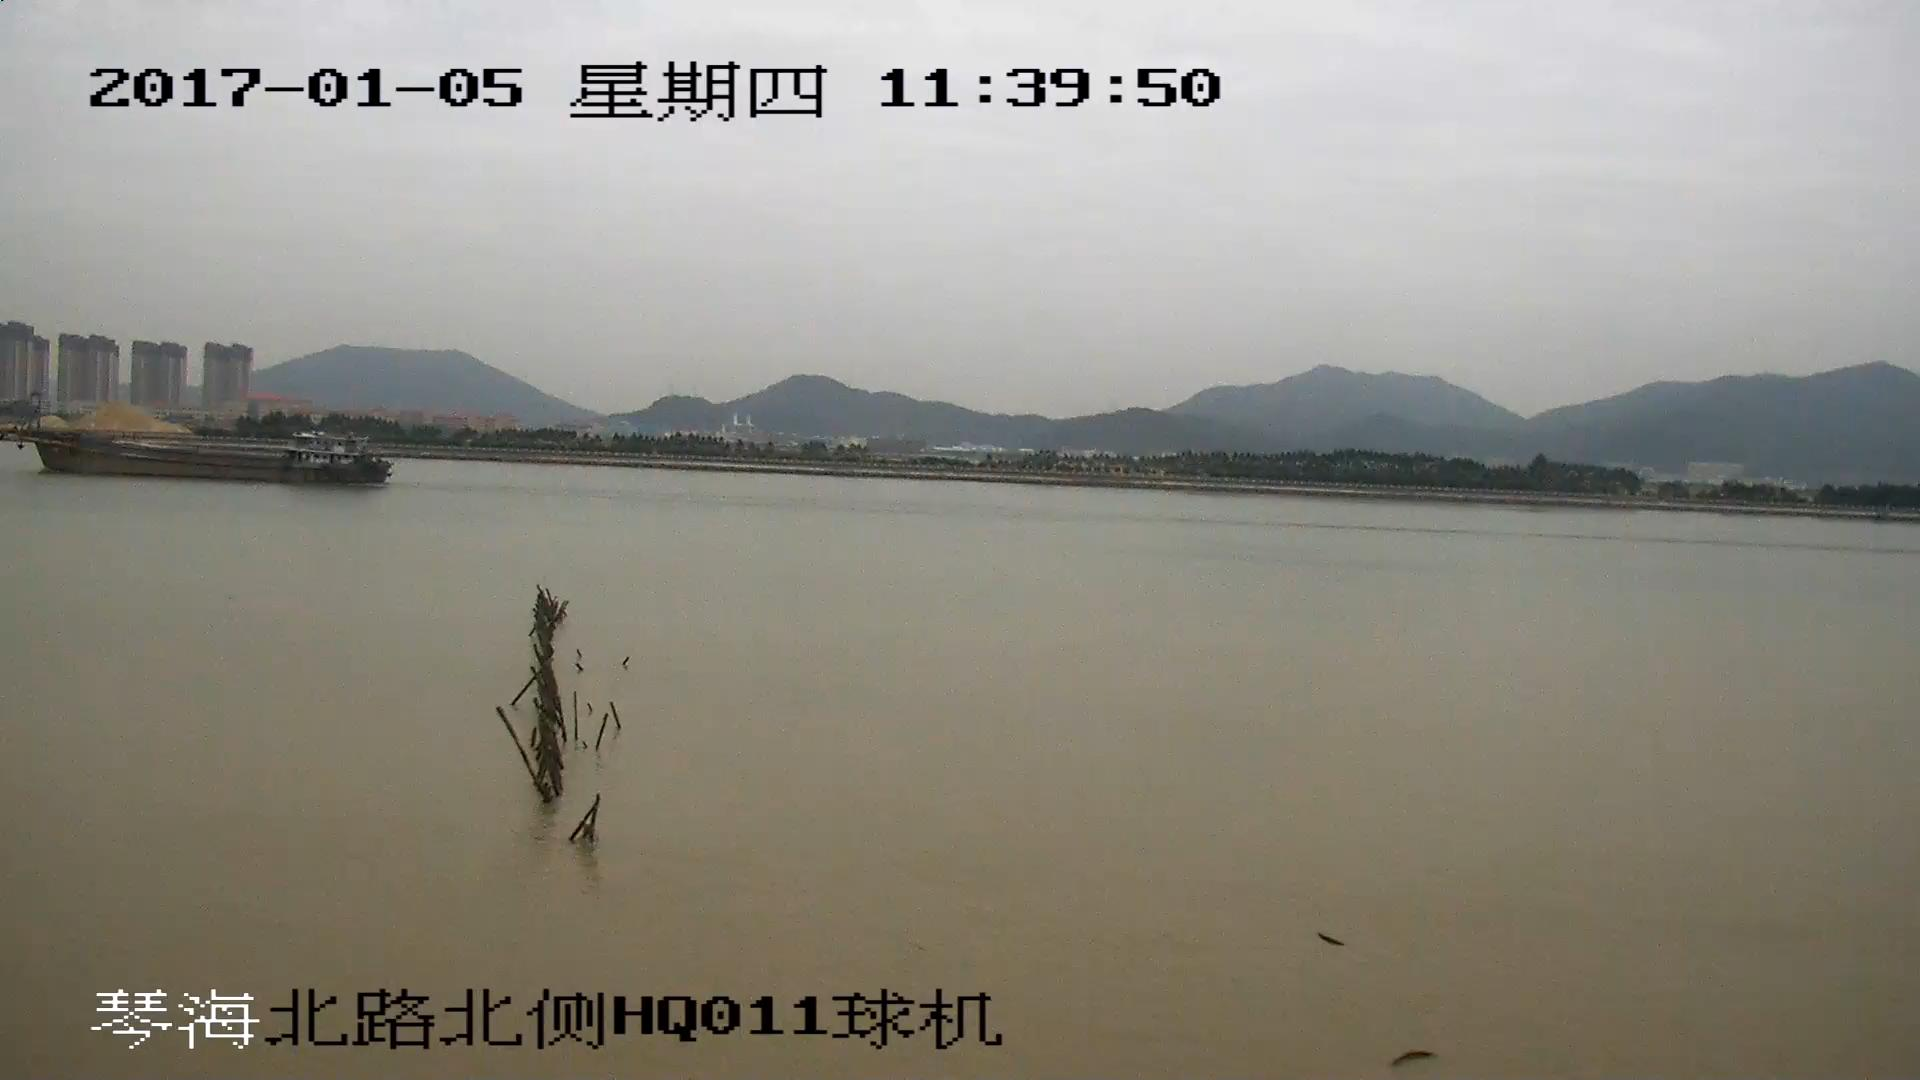bulk cargo carrier: (1, 398, 393, 485)
